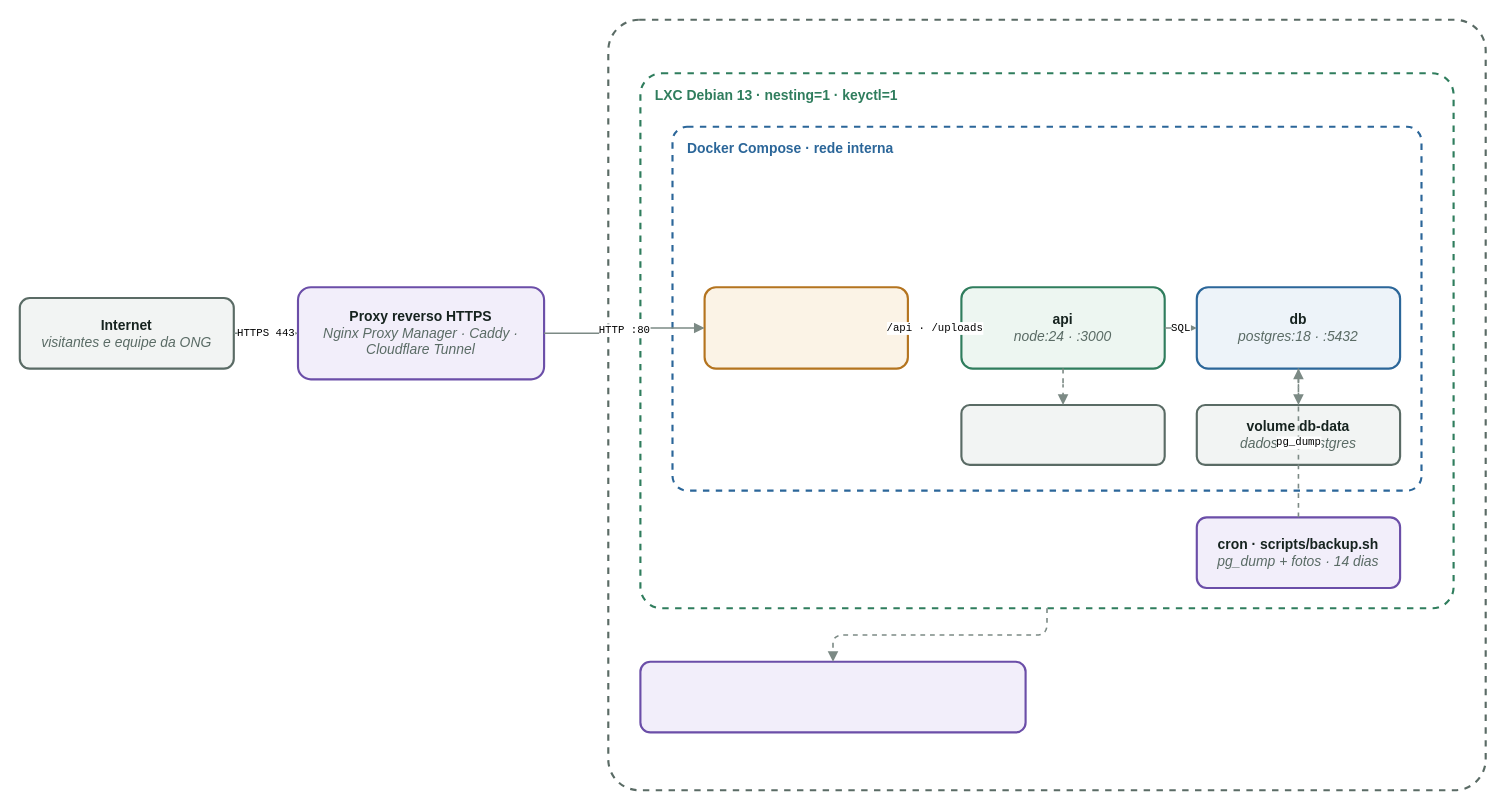
This 1504x809 diagram has some shape labels left out. The box of each missing label's shape, as (x1, y1, x2, y2) in pixels:
Backup do CT (vzdump) Datacenter → Backup · snapshot: (639, 660, 1026, 733)
Servidor Proxmox VE: (607, 18, 1486, 791)
volume uploads fotos dos animais: (960, 403, 1165, 465)
web nginx:1.29 · porta 80 exposta: (703, 286, 908, 369)
